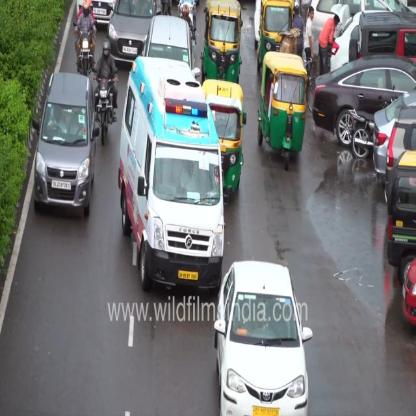auto-rikshaw: (257, 51, 309, 170), (202, 78, 246, 206), (200, 0, 242, 84), (256, 1, 300, 74)
bike: (90, 73, 118, 146), (348, 106, 375, 160), (73, 21, 95, 76), (302, 56, 316, 114)
car: (213, 259, 313, 415), (32, 70, 100, 218), (311, 53, 415, 149), (329, 8, 415, 74), (372, 90, 414, 182), (140, 13, 196, 76), (106, 0, 158, 66), (76, 0, 116, 30)
priority: (118, 56, 224, 294)
